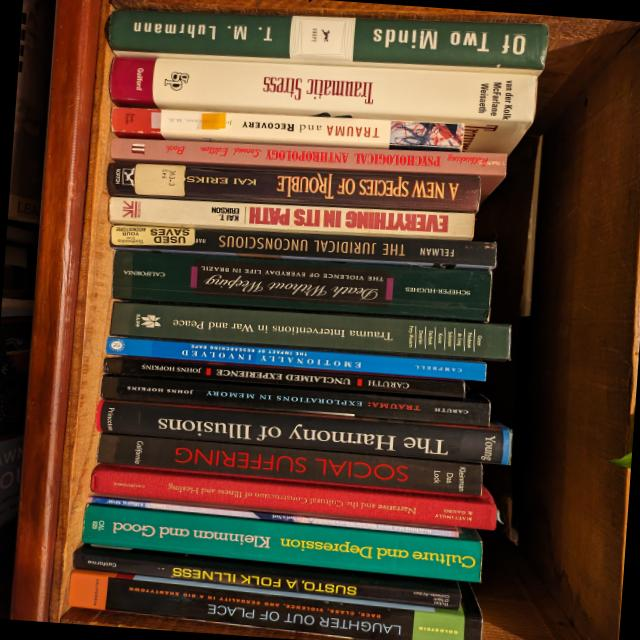book: (105, 45, 536, 154), (80, 501, 483, 582), (66, 568, 483, 640), (107, 126, 506, 201), (94, 396, 512, 465), (89, 461, 497, 530), (106, 8, 548, 71), (110, 249, 491, 322), (70, 542, 461, 610), (95, 432, 483, 496), (109, 300, 510, 361), (100, 371, 490, 426), (106, 161, 479, 213), (108, 223, 496, 270), (104, 335, 486, 382), (107, 195, 473, 241), (108, 106, 464, 153), (87, 493, 458, 538), (101, 355, 465, 398)
